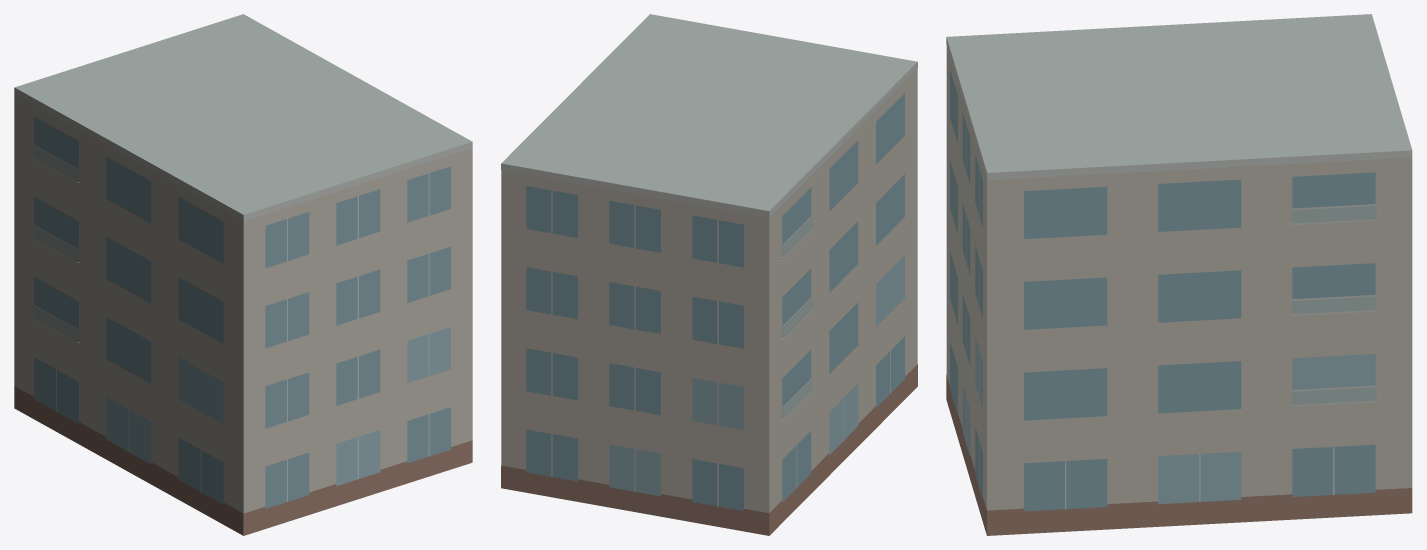
The model's file is residential-a0e47c13-8cd0-455a-8012-311ded5429e9.glb.
3 renders of one model, left to right at view 1: azimuth 30°, elevation 25°; view 2: azimuth 150°, elevation 25°; view 3: azimuth 270°, elevation 25°, orthographic. The views are drawn at different scales.
Parts seen in each view (by area): view 1: residential-a0e47c13-8cd0-455a-8012-311ded5429e9.tmp; view 2: residential-a0e47c13-8cd0-455a-8012-311ded5429e9.tmp; view 3: residential-a0e47c13-8cd0-455a-8012-311ded5429e9.tmp.
Boxes of the visible parts, <box> form: residential-a0e47c13-8cd0-455a-8012-311ded5429e9.tmp: <box>14,14,472,535</box>; residential-a0e47c13-8cd0-455a-8012-311ded5429e9.tmp: <box>501,14,917,535</box>; residential-a0e47c13-8cd0-455a-8012-311ded5429e9.tmp: <box>946,14,1412,535</box>.
Bounding box in the file's own units: 11.47 × 12.2 × 14.21.
